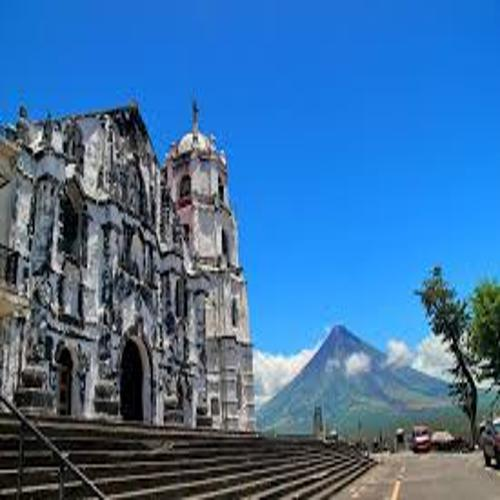Daraga Church: (14, 79, 260, 439)
